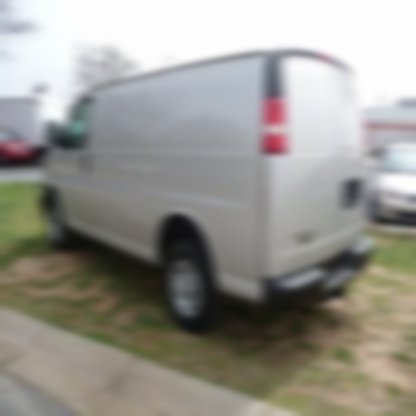Vehicle: (38, 40, 377, 340)
